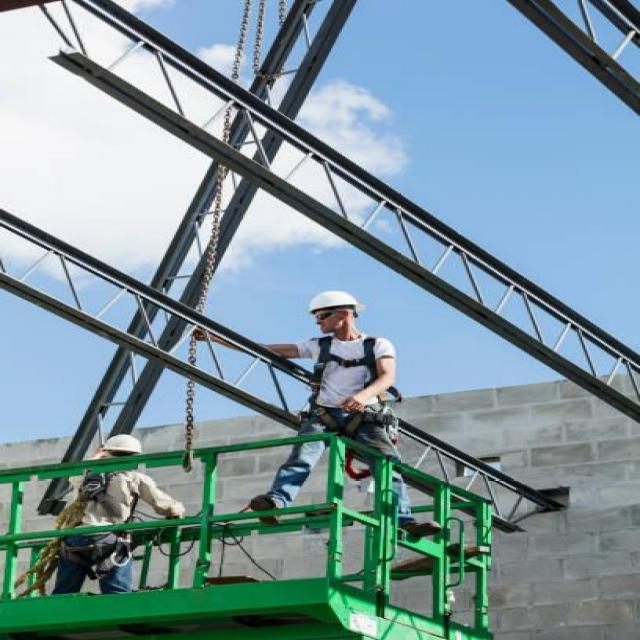belt: (52, 464, 134, 575), (306, 336, 392, 439)
